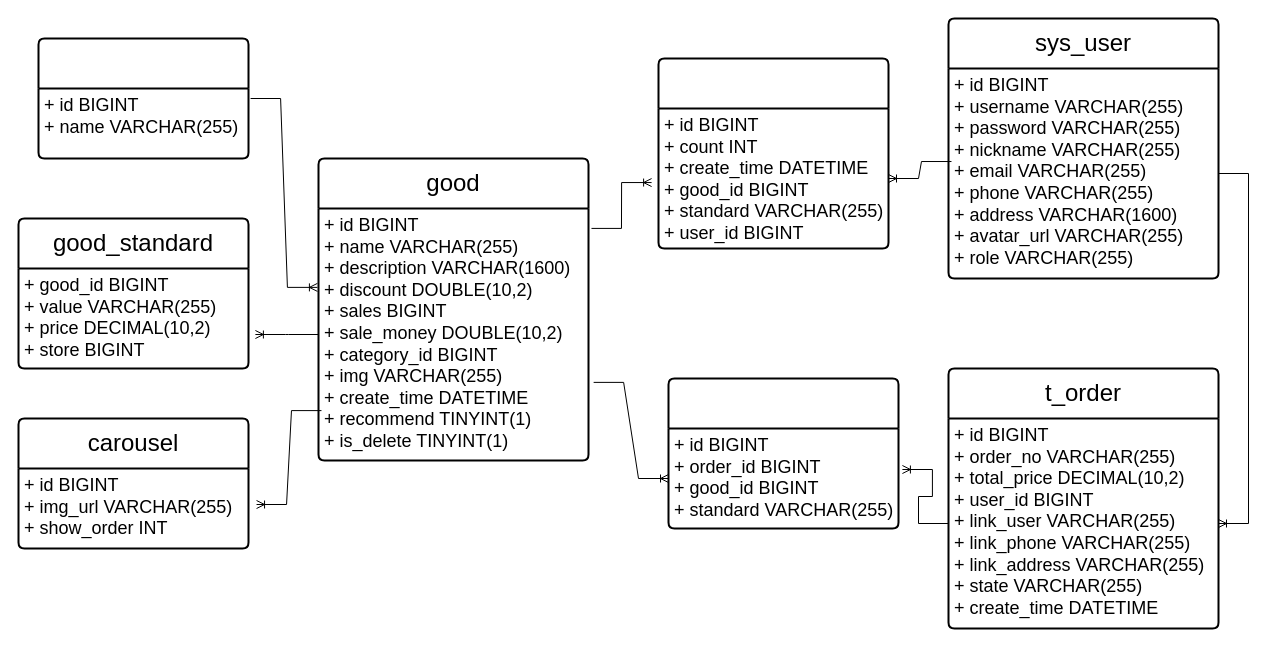
Image size: 1274x646. Some labels were removed from this diagram. Each missing label, with the box of its shape:
cart: (657, 57, 889, 249)
category: (37, 37, 249, 159)
order_goods: (667, 377, 899, 529)
